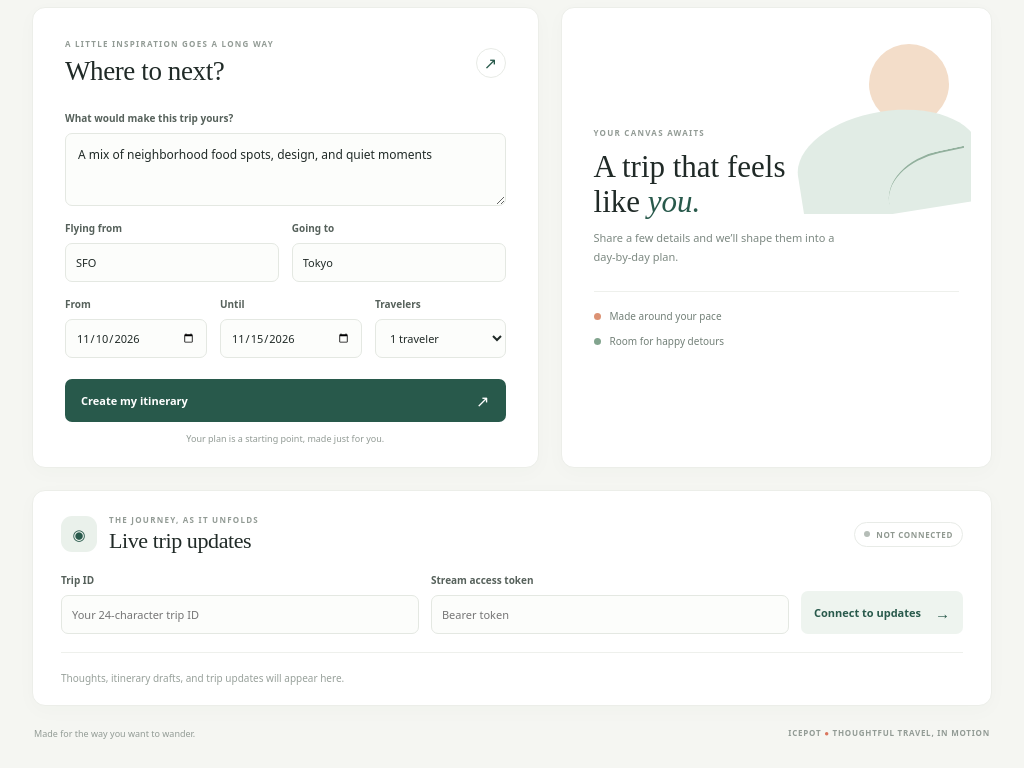
it: trip planning dashboard › explains when the agent service returns an empty response
(page scrolled)
Click the button "Create my itinerary ↗": click(134, 400) [65,379,506,422]
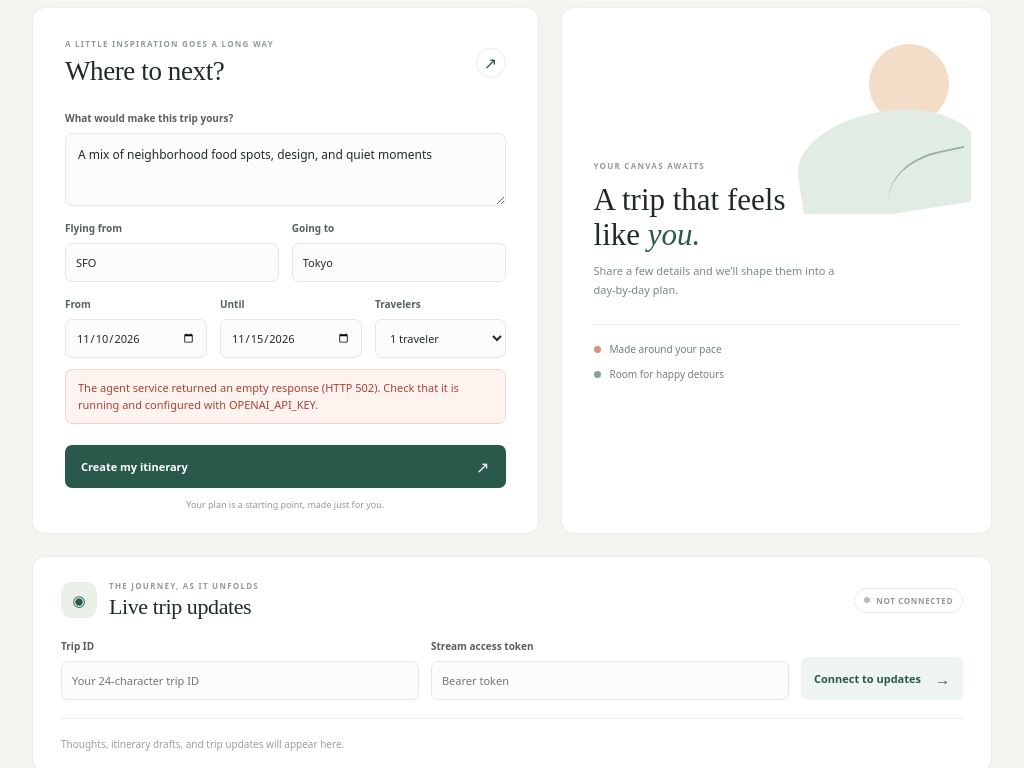
expect the message shows "agent service returned an empty response (HTTP 502)": met, box [78,380,459,412]
expect the message shows "OPENAI_API_KEY": met, box [78,380,459,412]
